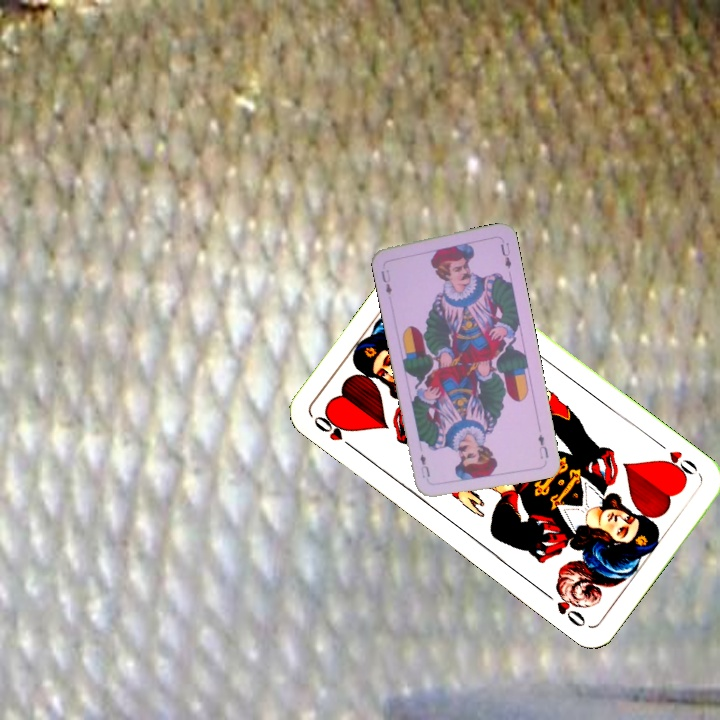EU: (377, 265, 394, 297), (534, 430, 551, 462)
HO: (652, 437, 700, 482), (309, 410, 359, 453)
